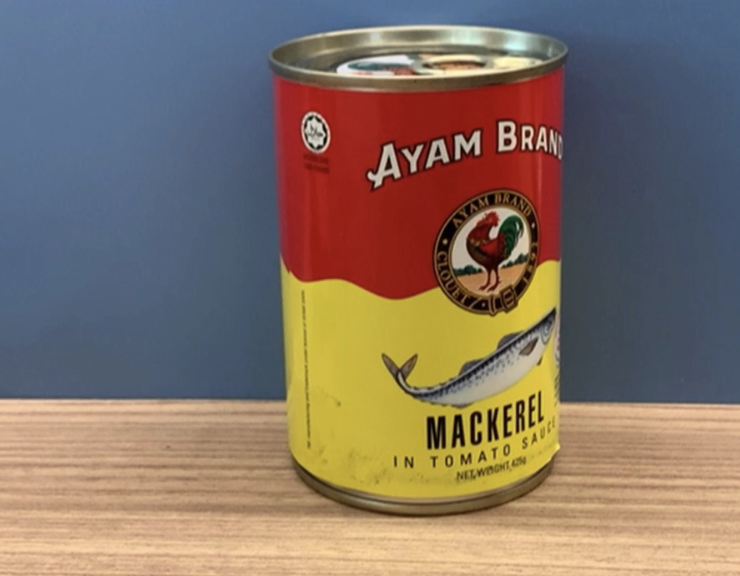sardines_450g: (287, 54, 555, 479)
